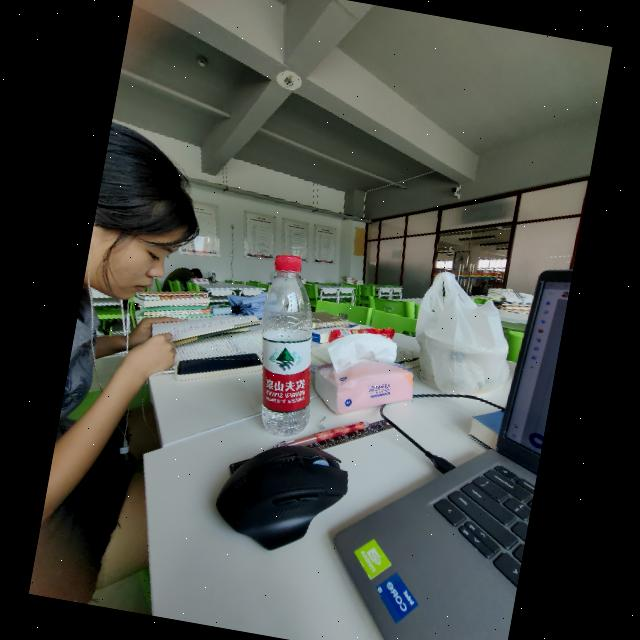trash: (240, 250, 336, 440)
